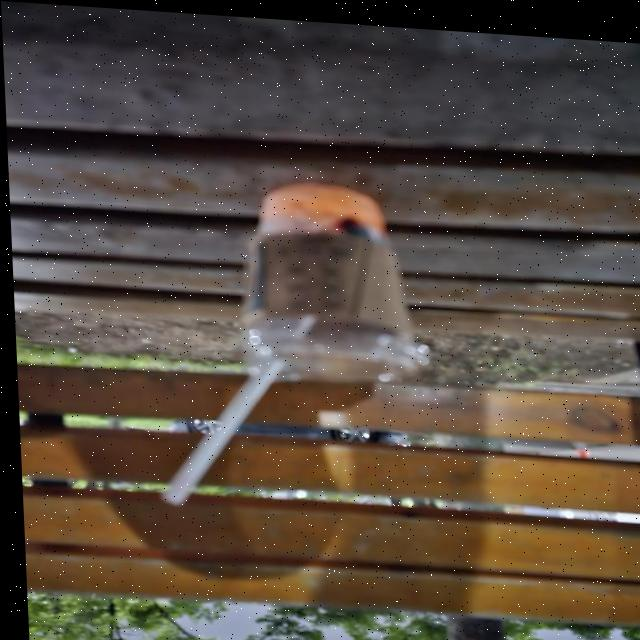cup: (224, 170, 433, 395)
